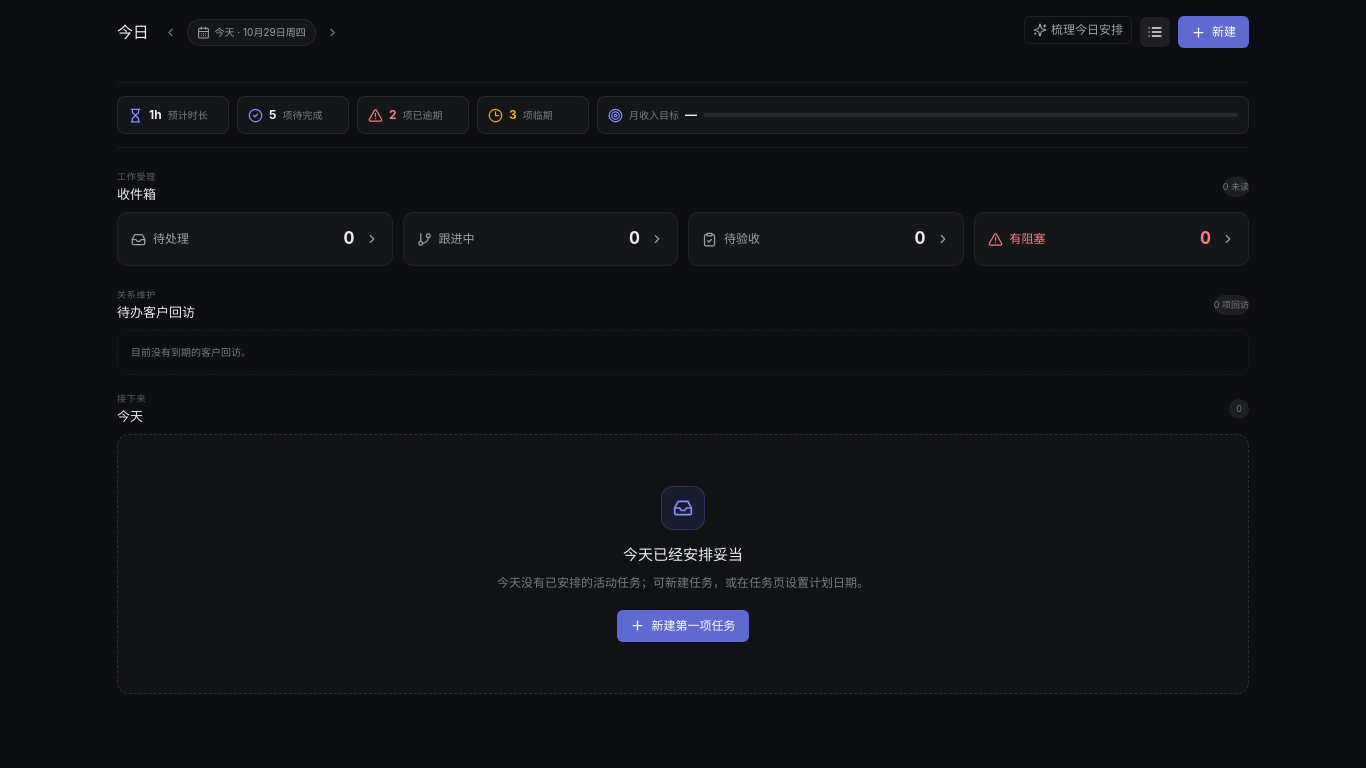
Test: TodayPage Inbox overview › shows a dedicated loading state for the selected risk
Click the button "3 项临期": x=533, y=115 [477,96,589,134]
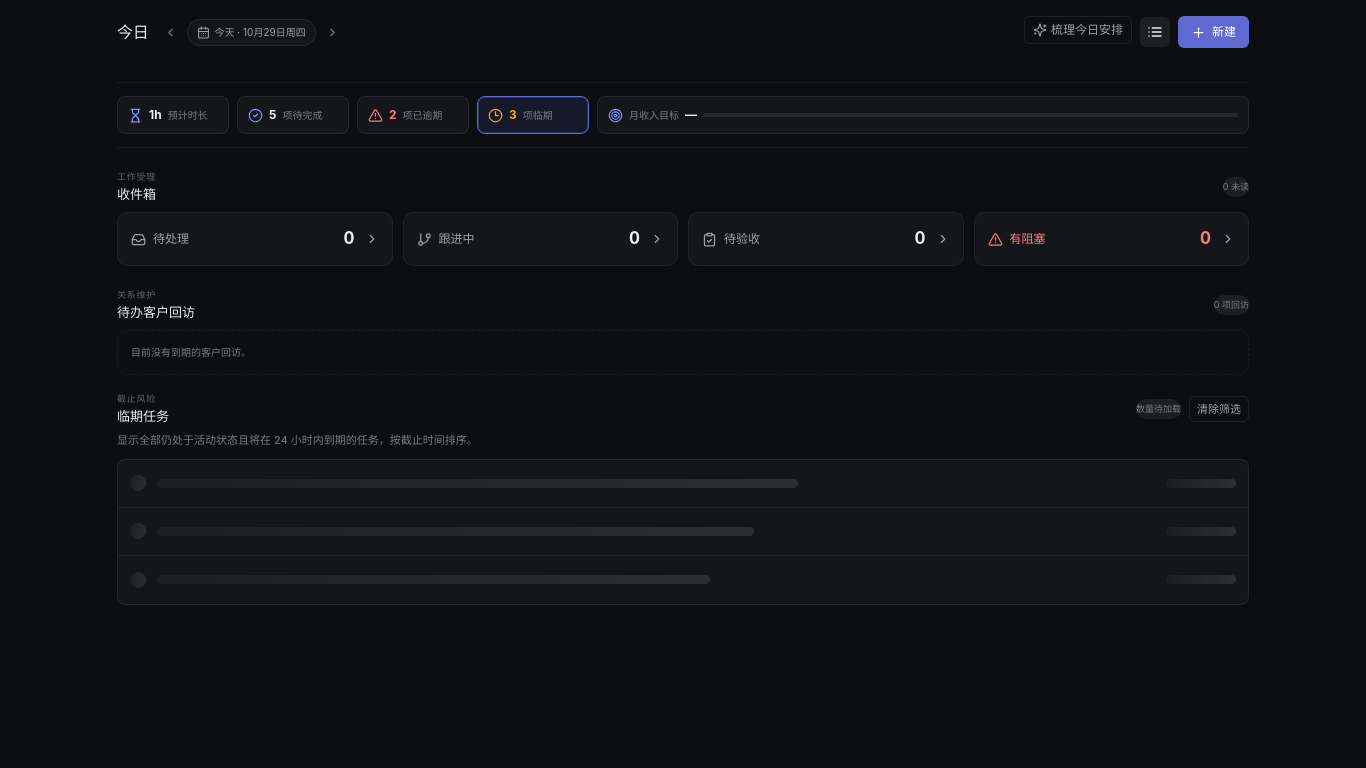
Expected: the message named "正在加载" is shown, [117,458,1249,604]
